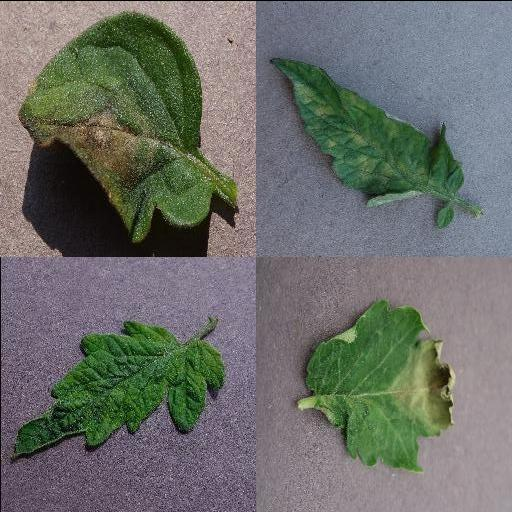Late Blight: (13, 11, 213, 243), (306, 297, 456, 469)
Leaf Mold: (269, 55, 465, 207)
Mosaic Virus: (9, 317, 227, 459)
